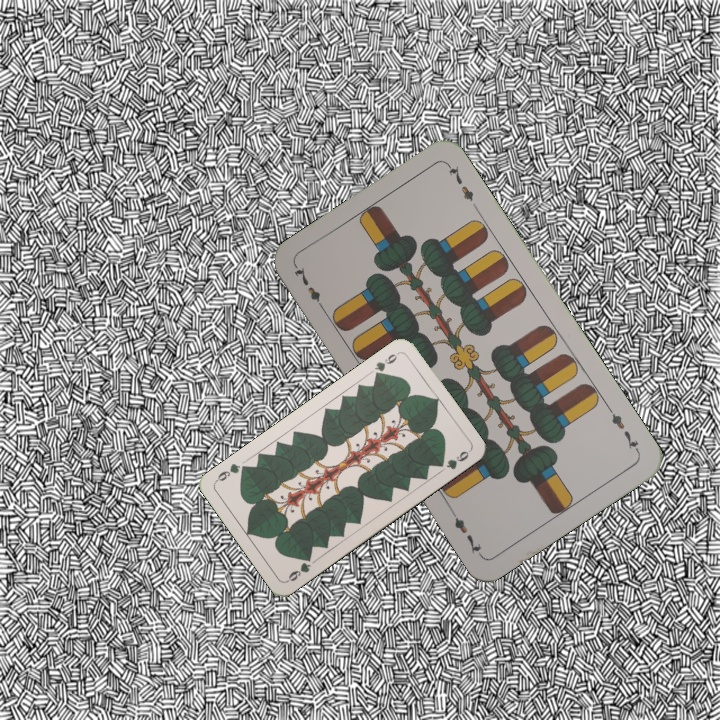E7: (290, 262, 329, 315), (604, 403, 642, 456)
G9: (370, 348, 402, 381), (283, 551, 314, 585)
